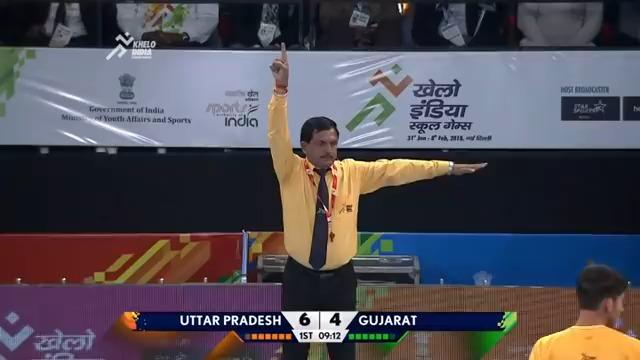Player: (527, 263, 639, 359)
referee: (263, 41, 488, 357)
